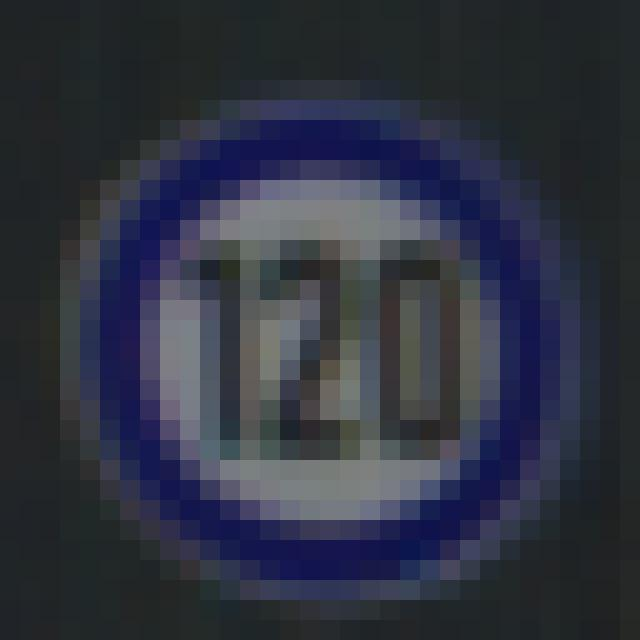SPEED LIMIT 120: (69, 99, 584, 608)
